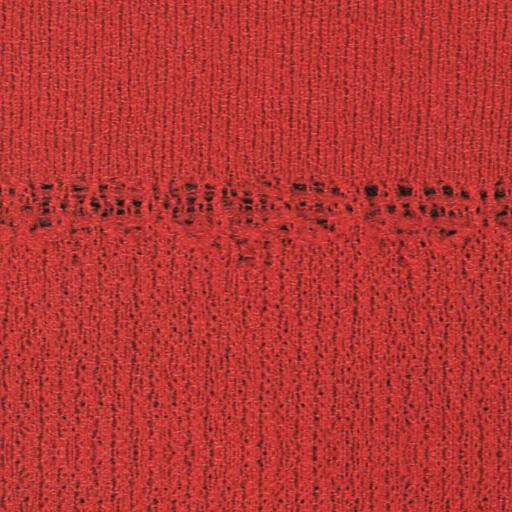slub: (0, 180, 511, 248)
